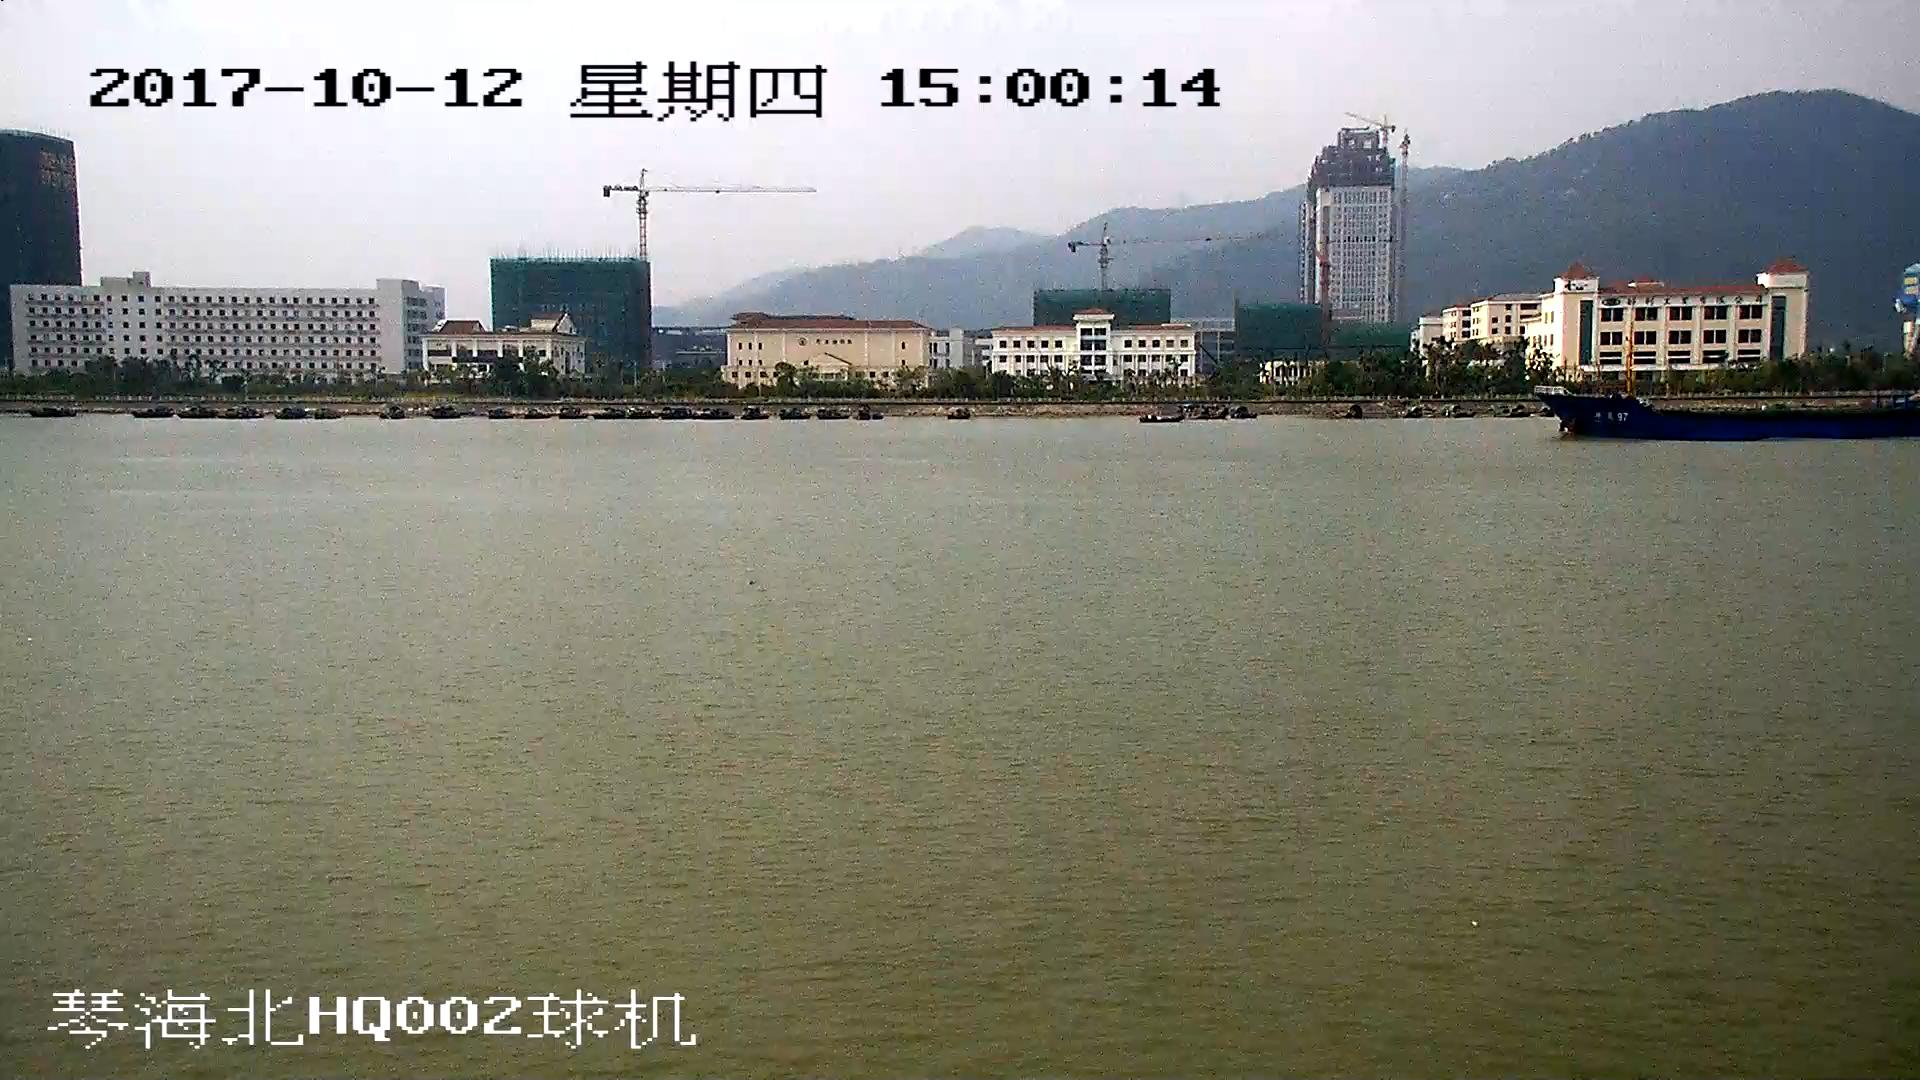general cargo ship: (1536, 379, 1920, 445)
